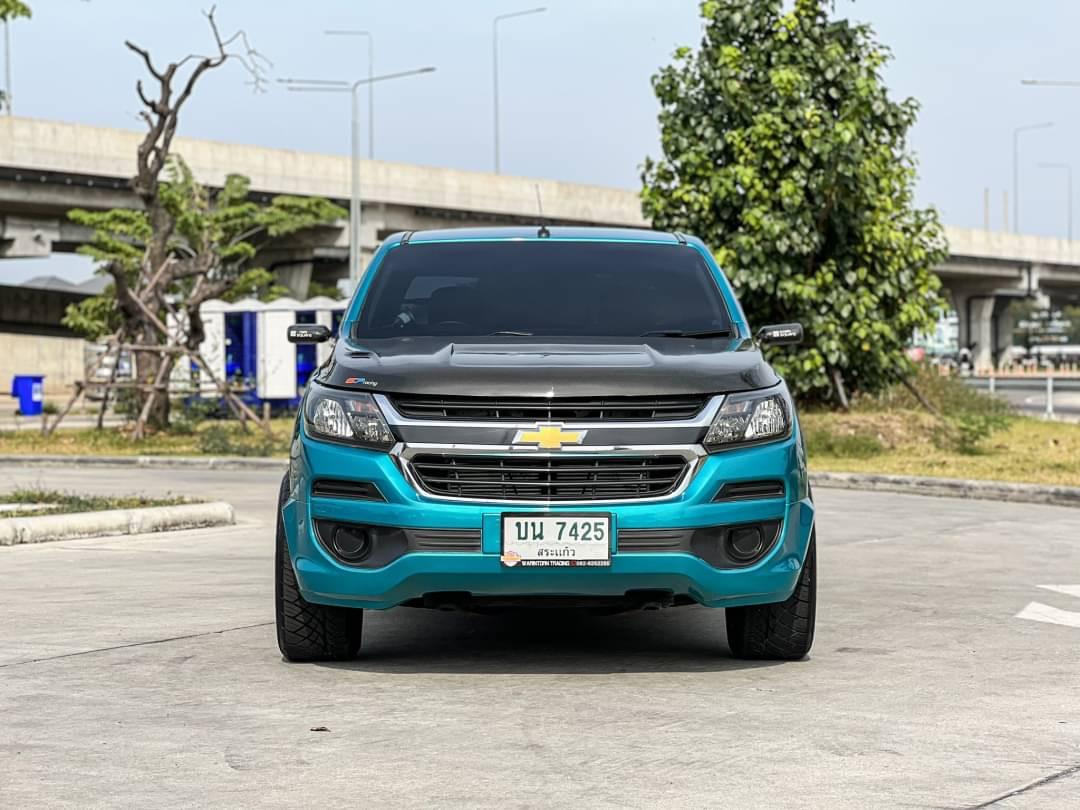license-plate: (498, 509, 614, 572)
